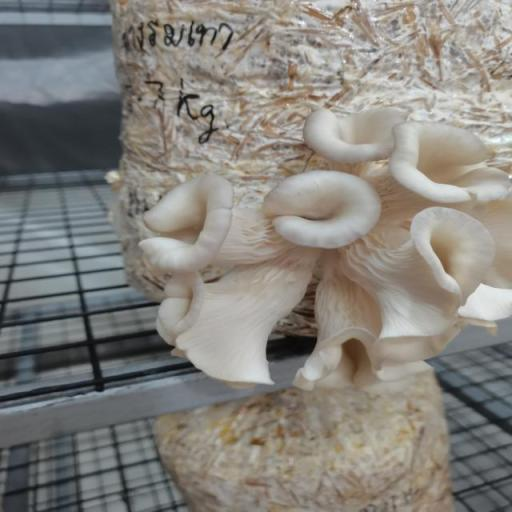White Oyster Mushroom: (136, 97, 512, 393)
